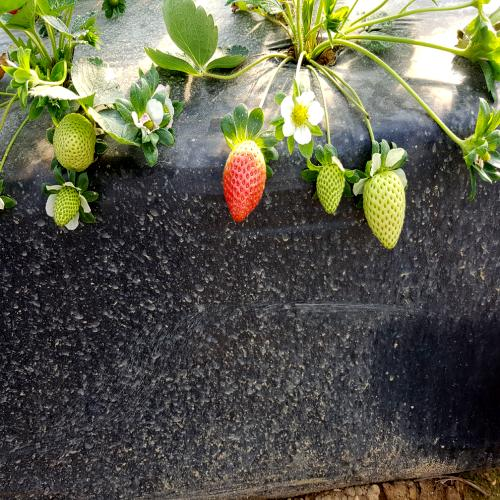partially-ripe: (218, 132, 276, 240)
